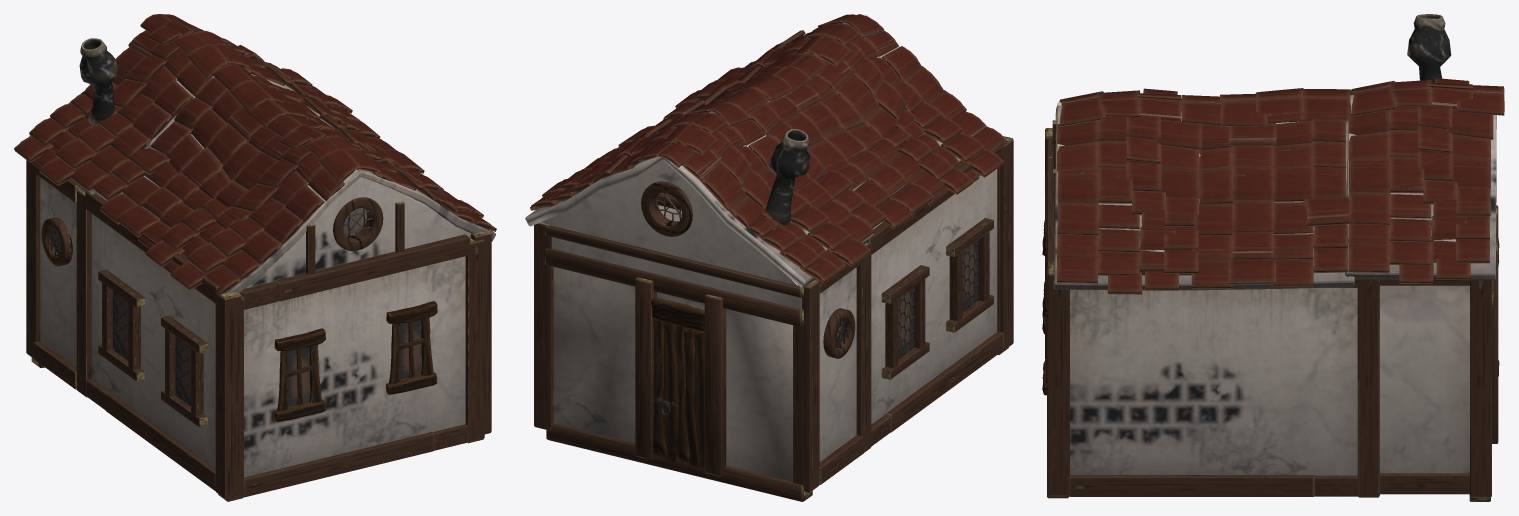
Rendered from SmallHouse_V1_LOD.fbx.
The picture shows the model from 3 angles, left to right: view 1: azimuth 30°, elevation 25°; view 2: azimuth 150°, elevation 25°; view 3: azimuth 270°, elevation 25°; orthographic projection. The views are drawn at different scales.
Visible parts, largest first — view 1: SmallHouse_V1_LOD0; view 2: SmallHouse_V1_LOD0; view 3: SmallHouse_V1_LOD0.
Boxes of the visible parts, <box> form: SmallHouse_V1_LOD0: <box>14,14,496,501</box>; SmallHouse_V1_LOD0: <box>525,14,1013,501</box>; SmallHouse_V1_LOD0: <box>1042,14,1504,501</box>.
Size of what is drawn, in the model's own units: 547 by 576 by 651.
1 material, 1 textured.
